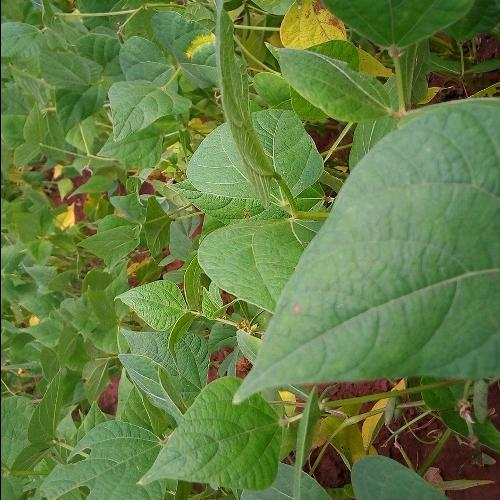hawar: (307, 107, 500, 370)
